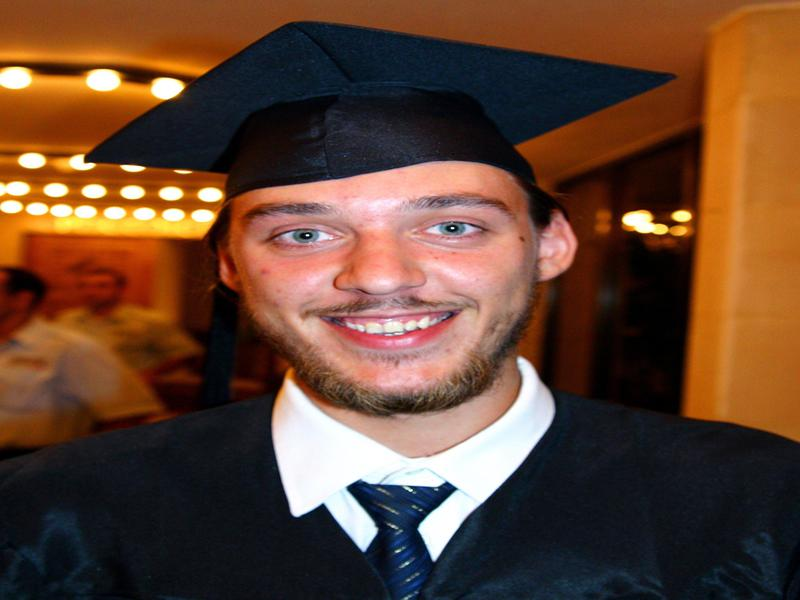person: (30, 33, 793, 600)
